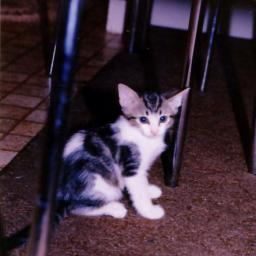catnose: (150, 129, 160, 136)
